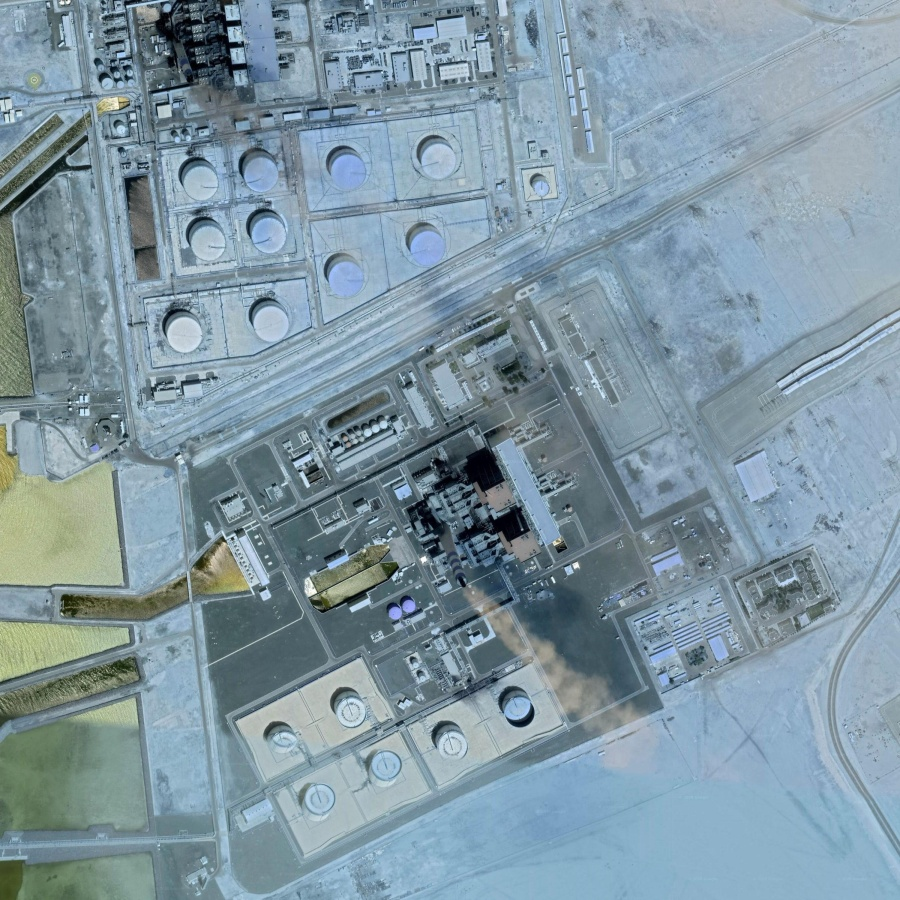PowerPlant: (112, 111, 492, 374)
